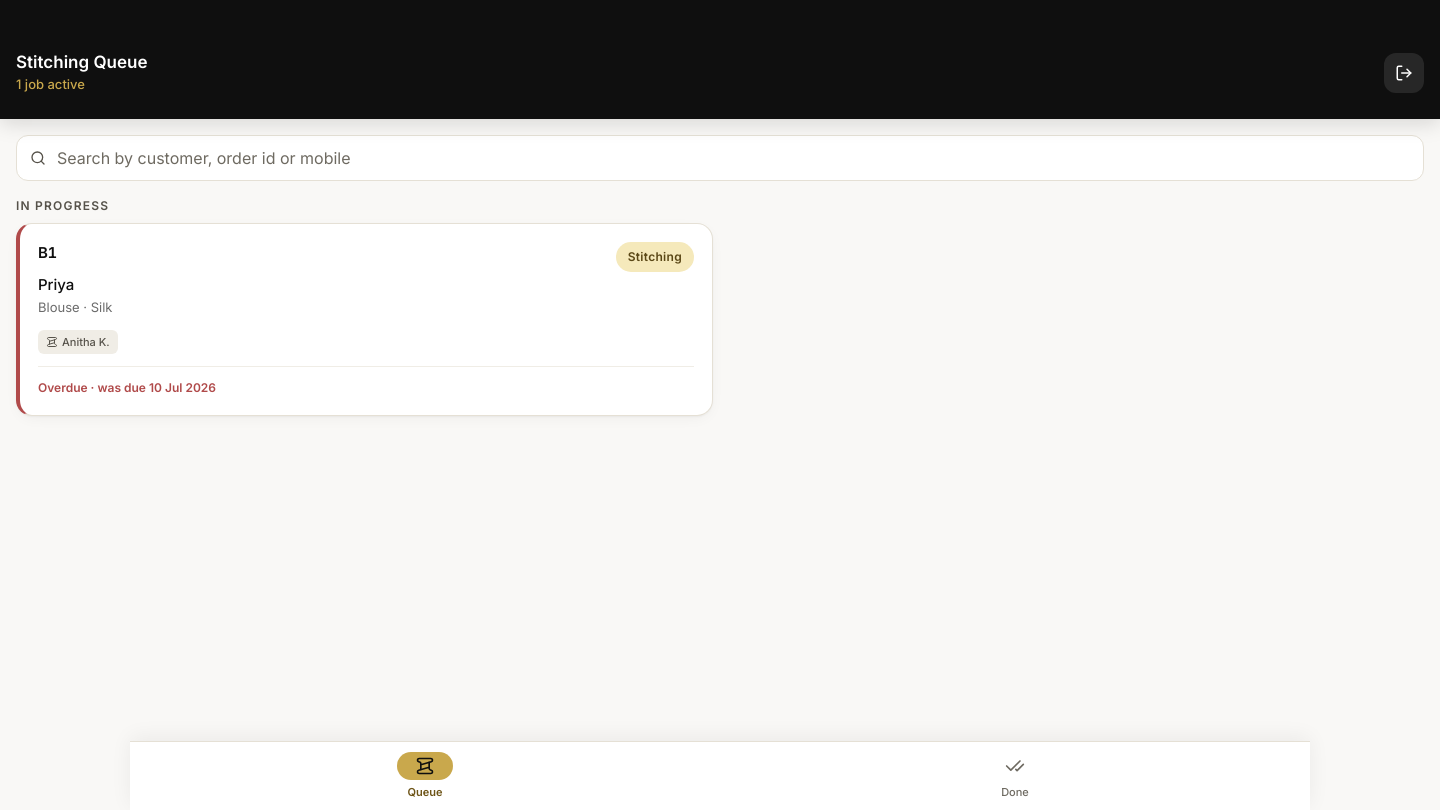
Test: QueueBody › shows an empty state on the Done tab when nothing is ready yet
Click the button "Done": [1015, 776] box [720, 742, 1310, 809]
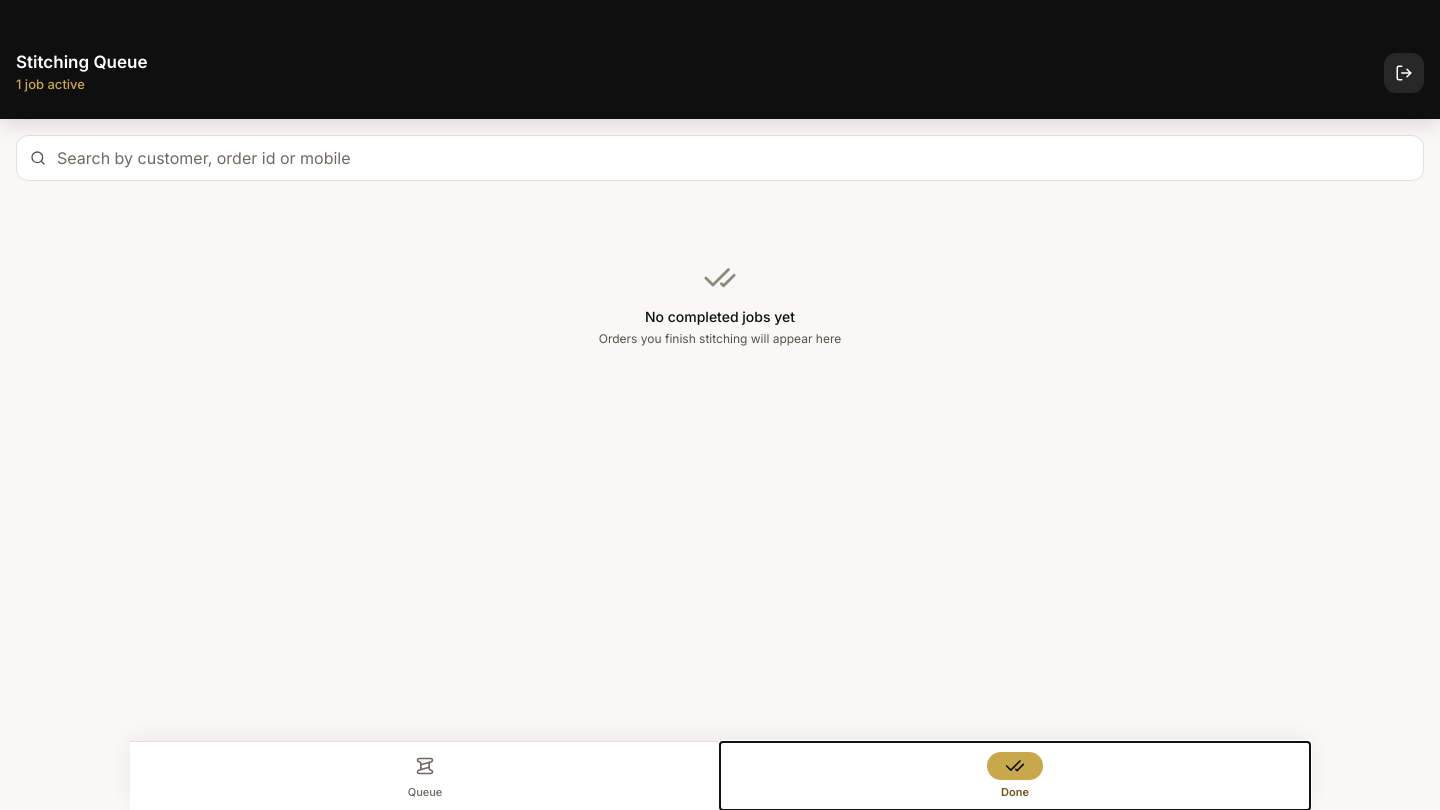
Now the text "No completed jobs yet" is shown, box [645, 308, 795, 325]
